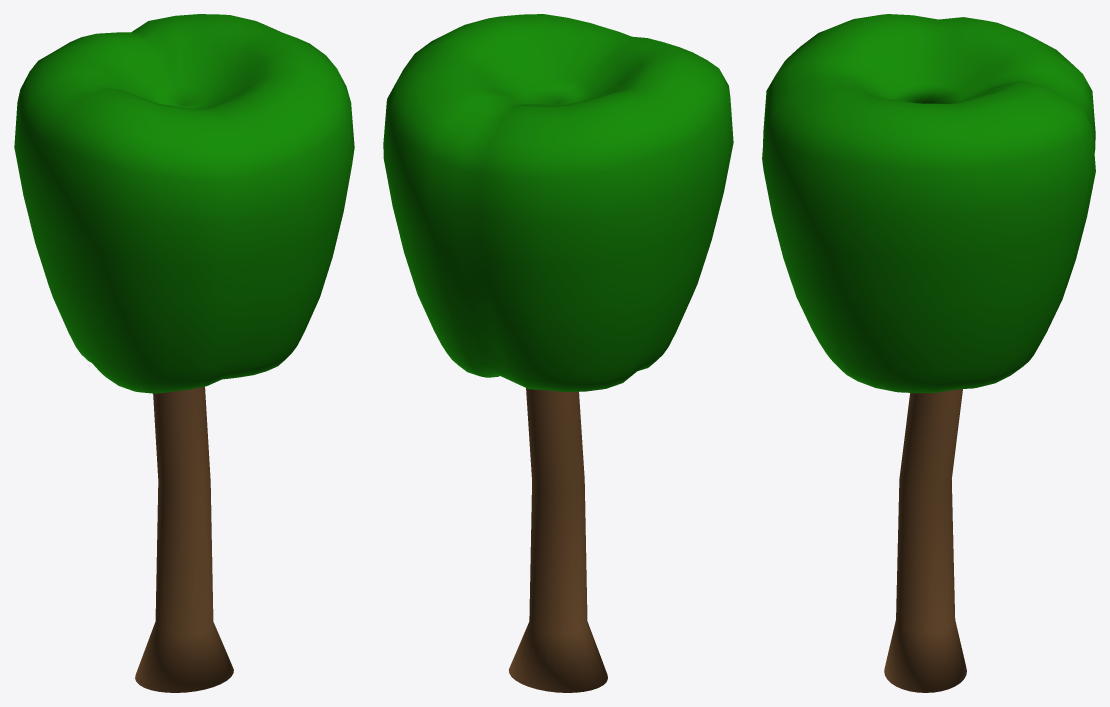
The model's file is AppleTree.fbx.
3 renders of one model, left to right at view 1: azimuth 30°, elevation 25°; view 2: azimuth 150°, elevation 25°; view 3: azimuth 270°, elevation 25°, orthographic.
Parts seen in each view (by area): view 1: Sphere, Cylinder; view 2: Sphere, Cylinder; view 3: Sphere, Cylinder.
Boxes of the visible parts, <box> form: Sphere: <box>14,14,354,393</box>; Cylinder: <box>135,386,233,692</box>; Sphere: <box>383,14,733,391</box>; Cylinder: <box>509,388,607,692</box>; Sphere: <box>762,14,1095,393</box>; Cylinder: <box>884,389,966,692</box>.
Bounding box in the file's own units: 2.47 × 4.97 × 2.47.
